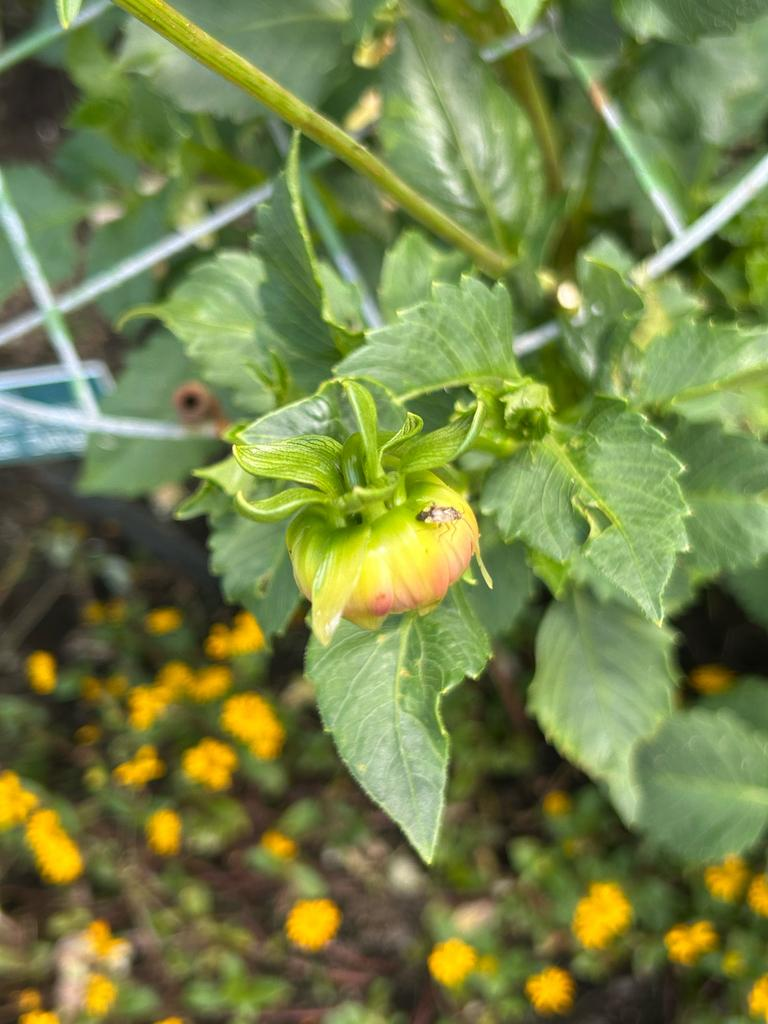plant_bugs: (404, 483, 476, 549)
